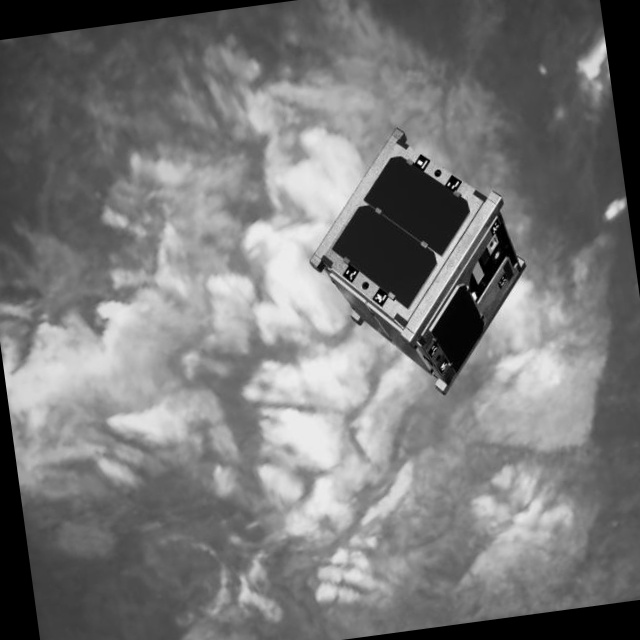medium_debris: (292, 113, 546, 415)
